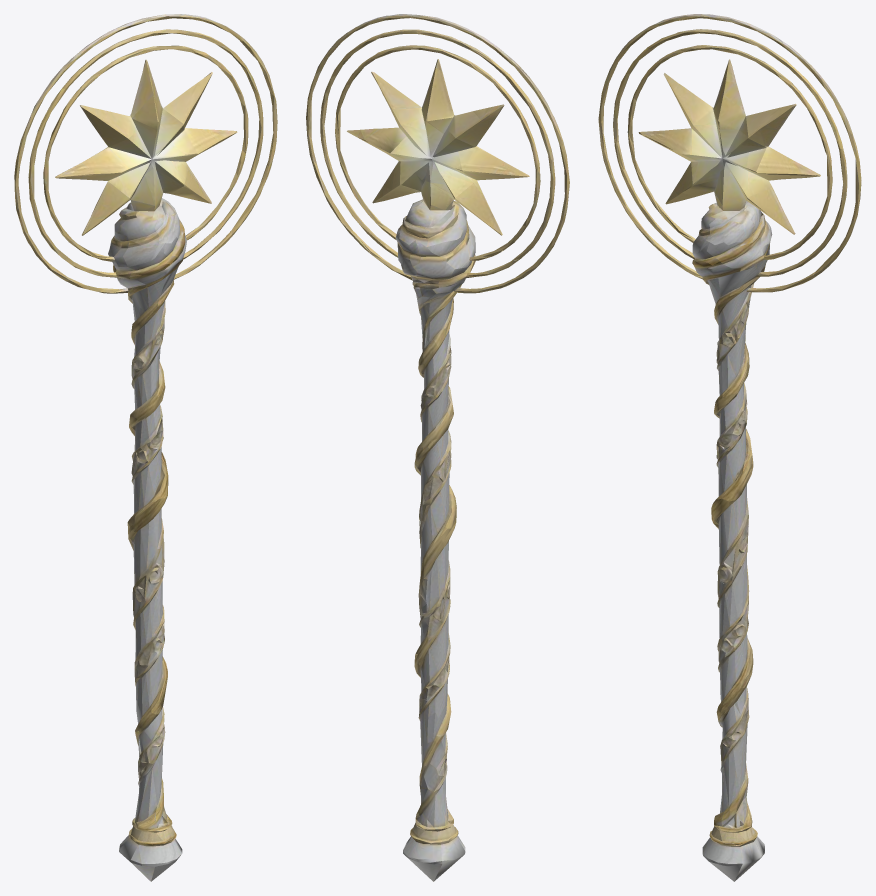
The model's file is w_arcanist_unique.glb.
3 renders of one model, left to right at view 1: azimuth 30°, elevation 25°; view 2: azimuth 150°, elevation 25°; view 3: azimuth 330°, elevation 25°, orthographic.
Size of the model in its own units: 0.5881 by 1.85 by 0.1669.
Materials: 1 (1 with a texture image).
